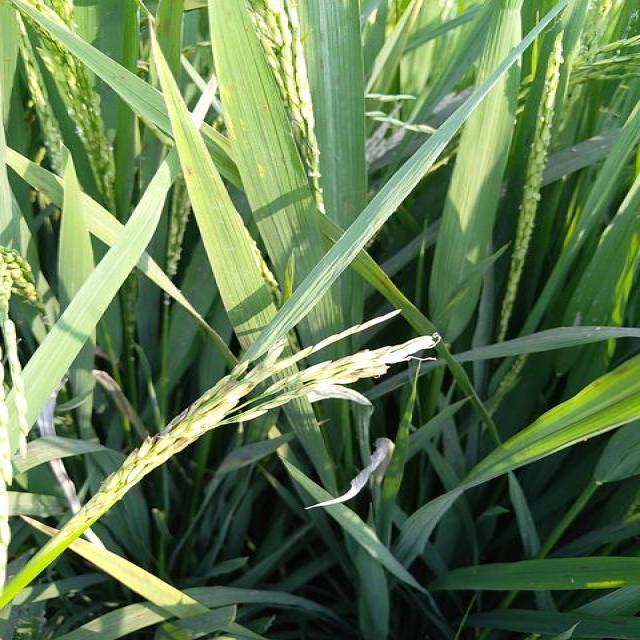Panicle Blight: (163, 436, 195, 455), (137, 436, 155, 454)
